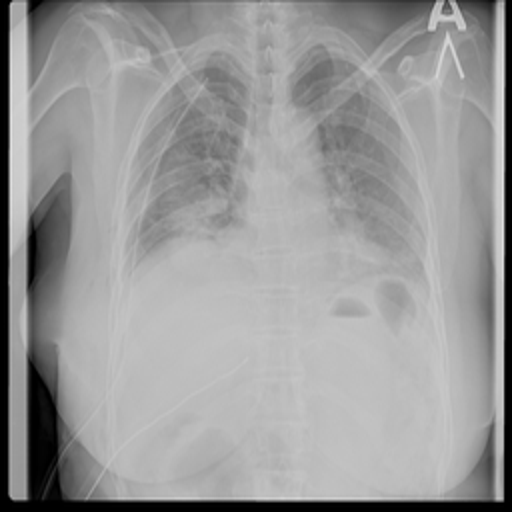TB: (155, 160, 221, 237)
